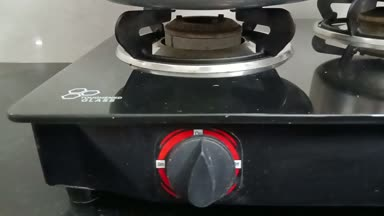noflame_gason: (109, 4, 297, 216)
